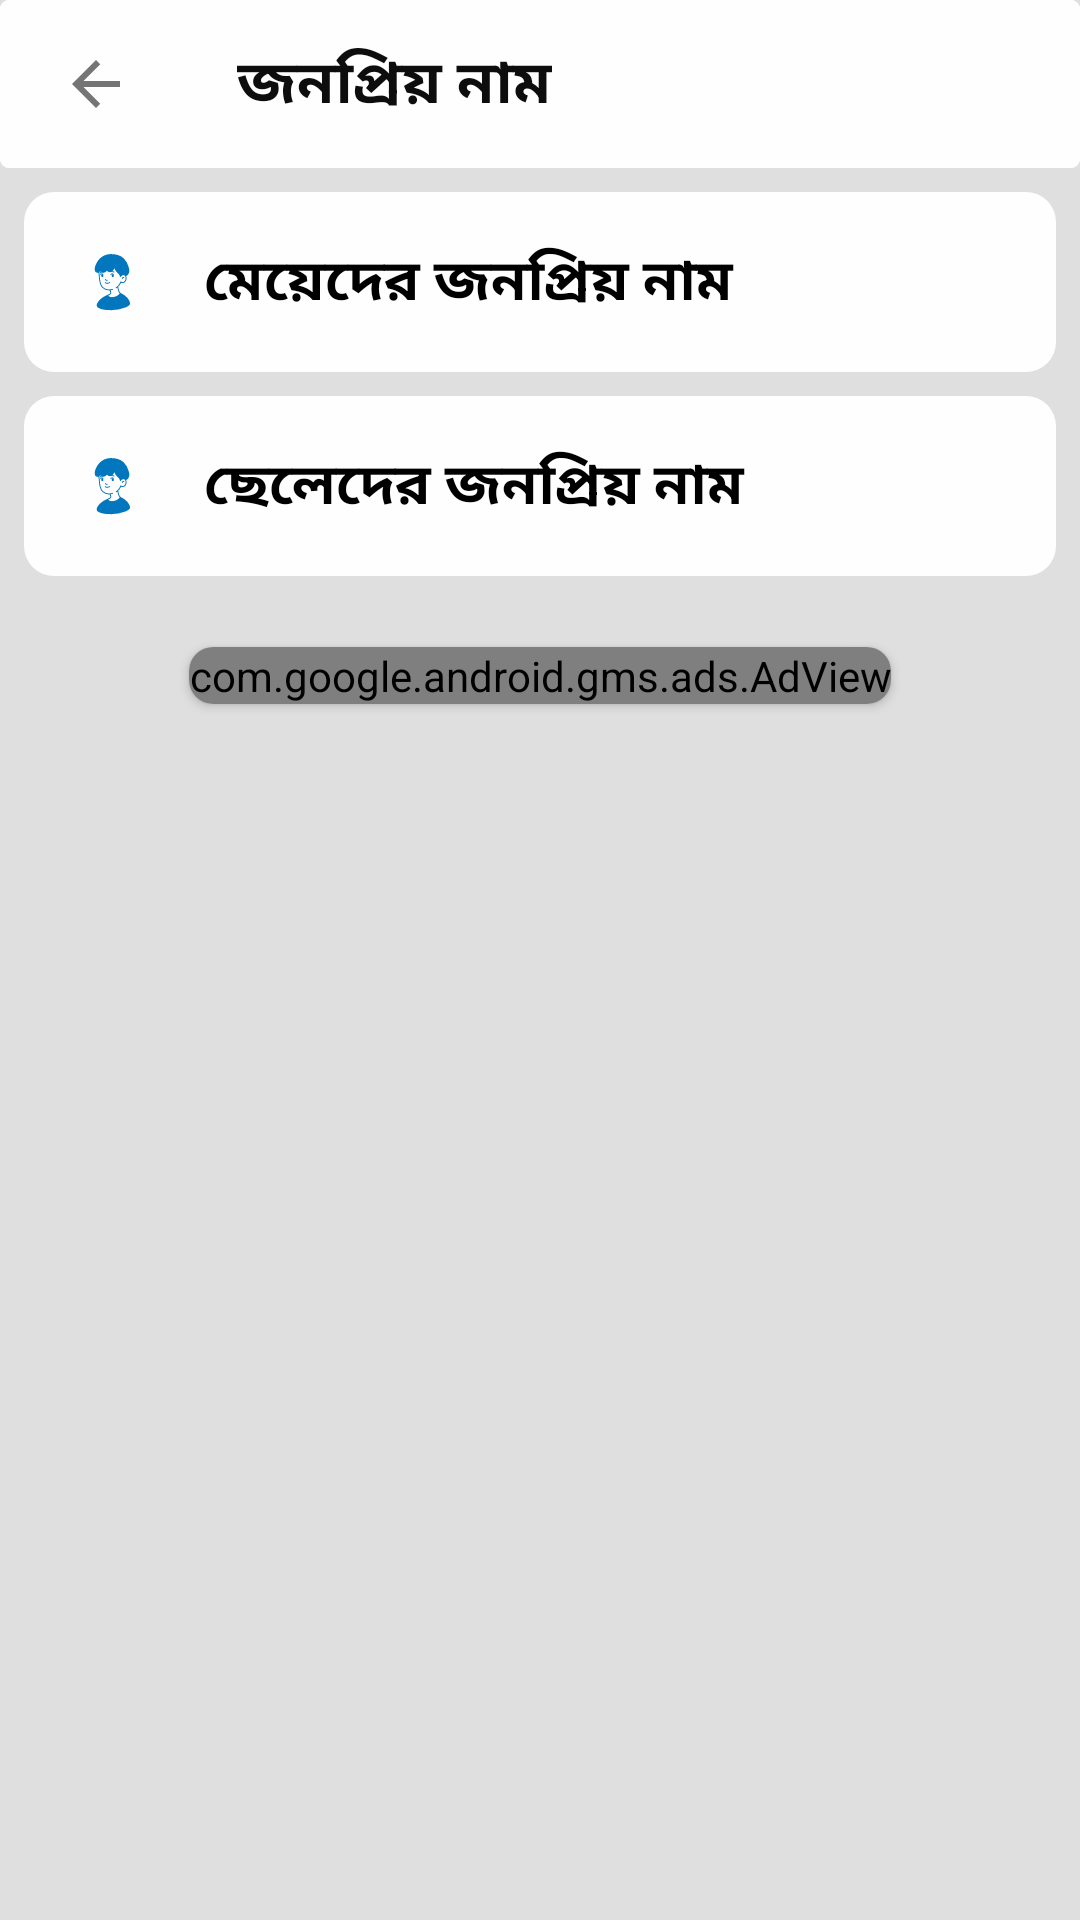

Icon click points for this 1080 × 1920 phone screenshot, format point (x, y):
back: point (96, 84)
boy: point (112, 282), point (112, 486)
